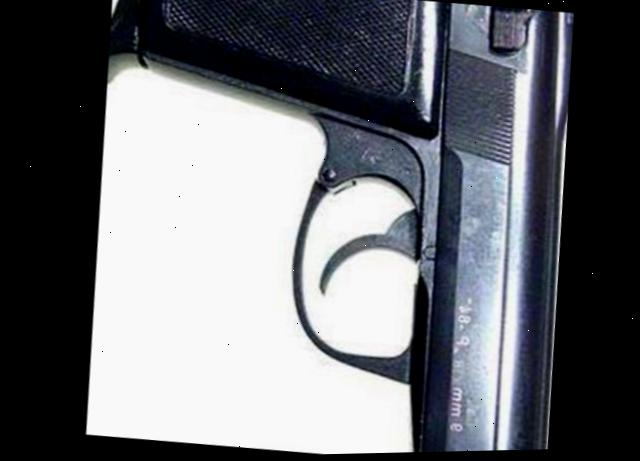pistol: (66, 0, 589, 460)
